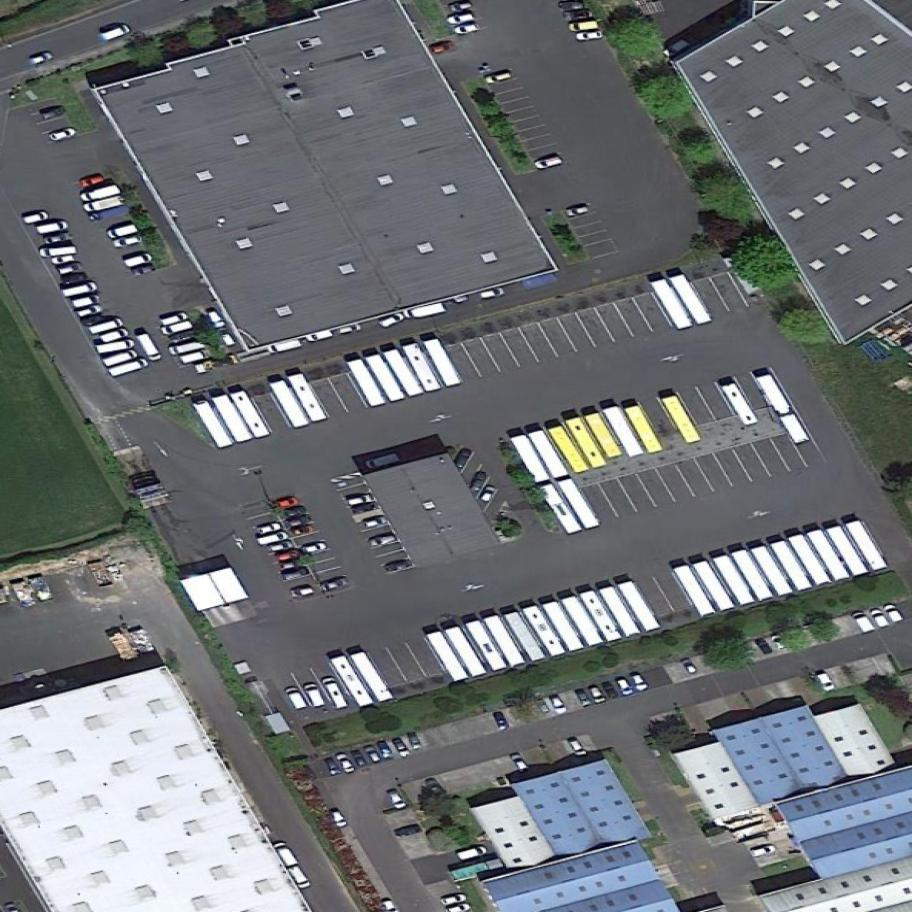large-vehicle: (561, 591, 606, 651), (807, 526, 853, 584), (769, 538, 815, 596), (541, 597, 586, 656), (484, 612, 529, 671), (331, 652, 375, 712), (350, 649, 395, 707), (503, 609, 548, 666), (788, 531, 832, 589), (751, 543, 795, 601), (693, 558, 737, 616), (557, 475, 601, 533), (444, 624, 488, 682), (427, 628, 471, 686), (603, 403, 646, 462), (846, 517, 889, 575), (674, 562, 717, 620), (566, 415, 609, 473), (671, 271, 714, 329), (523, 603, 566, 661), (548, 422, 592, 478), (229, 386, 273, 442), (826, 523, 869, 580), (580, 588, 623, 645), (540, 481, 583, 537), (618, 579, 661, 635), (732, 547, 774, 604), (529, 426, 571, 482), (714, 552, 755, 609), (364, 351, 406, 406), (599, 585, 641, 640), (466, 619, 508, 674), (651, 277, 692, 333), (346, 355, 387, 411), (383, 346, 425, 400), (403, 340, 443, 396), (288, 371, 328, 427), (663, 392, 703, 448), (511, 432, 552, 486), (624, 403, 665, 457), (192, 397, 233, 451), (212, 392, 252, 447), (424, 335, 463, 390), (720, 380, 760, 431), (271, 378, 309, 431), (586, 410, 623, 461), (757, 371, 795, 419), (321, 675, 349, 713), (781, 411, 810, 447)
small-vehicle: (135, 327, 166, 366), (283, 858, 315, 895), (106, 356, 152, 381), (271, 836, 301, 872), (80, 182, 125, 205), (281, 682, 311, 716), (86, 203, 132, 225), (84, 314, 126, 337), (82, 194, 128, 215), (849, 606, 878, 639), (166, 336, 209, 358), (301, 679, 329, 712), (97, 21, 134, 45), (102, 347, 140, 370), (404, 301, 448, 320), (57, 280, 98, 300), (375, 309, 409, 333), (158, 317, 195, 339), (384, 783, 411, 813), (111, 229, 145, 252), (94, 337, 135, 356), (455, 843, 492, 864), (34, 217, 71, 237), (106, 220, 141, 241), (612, 672, 637, 701), (120, 250, 154, 271), (97, 326, 131, 347), (883, 598, 907, 627), (68, 291, 102, 311), (814, 668, 838, 696), (254, 530, 291, 548), (175, 349, 212, 367), (364, 530, 397, 550), (627, 668, 651, 695), (318, 575, 352, 594), (491, 705, 514, 733), (509, 749, 532, 777), (391, 732, 414, 760), (28, 48, 57, 70), (266, 338, 303, 355), (384, 556, 417, 575), (548, 691, 571, 718), (205, 305, 228, 332), (321, 752, 344, 779), (280, 564, 311, 584), (532, 154, 566, 172), (45, 125, 77, 144), (17, 209, 49, 228), (274, 547, 306, 566), (454, 446, 477, 472), (361, 741, 384, 767), (335, 750, 357, 777), (37, 105, 68, 124), (360, 513, 391, 532), (38, 244, 80, 258), (286, 512, 315, 532), (157, 310, 191, 327), (446, 9, 478, 27), (255, 519, 285, 538), (869, 605, 890, 632), (77, 173, 108, 191), (468, 470, 489, 496), (566, 734, 587, 760), (343, 492, 375, 509), (426, 776, 448, 800), (215, 326, 237, 350), (74, 302, 103, 320), (329, 804, 349, 830), (478, 285, 508, 302), (394, 822, 424, 839), (305, 327, 335, 344), (452, 21, 483, 37), (126, 262, 157, 278), (438, 891, 469, 907), (483, 70, 514, 86), (60, 271, 89, 288), (54, 261, 83, 278), (749, 843, 778, 860), (680, 656, 701, 679), (45, 230, 75, 246), (600, 678, 620, 702), (587, 682, 607, 706), (349, 746, 369, 770), (49, 251, 77, 268), (283, 504, 311, 521), (569, 18, 600, 33), (755, 636, 775, 659), (574, 686, 594, 709), (337, 322, 364, 339), (80, 312, 105, 330), (377, 737, 395, 762), (564, 203, 592, 219), (289, 583, 317, 599), (478, 483, 498, 505), (406, 727, 424, 751), (274, 494, 298, 512), (446, 0, 474, 15), (266, 539, 294, 554), (291, 524, 319, 539), (432, 40, 455, 57), (301, 542, 328, 556), (563, 10, 594, 22), (574, 30, 604, 42), (558, 1, 589, 11)
